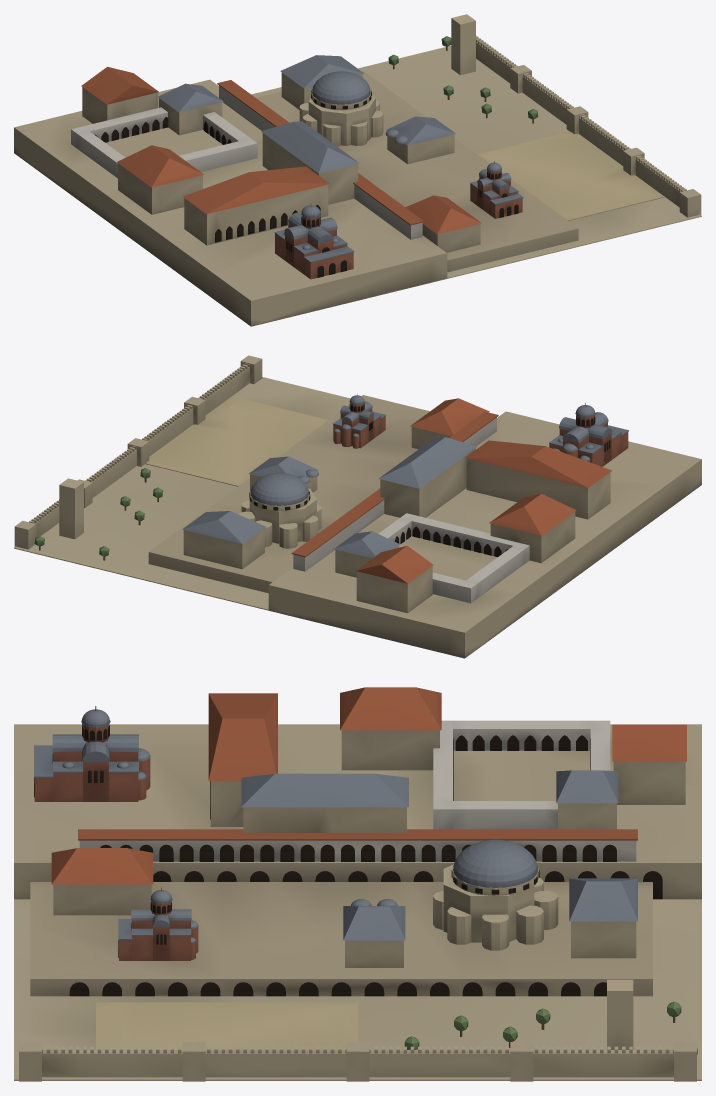
The model's file is great-palace.glb.
3 renders of one model, top to bottom at view 1: azimuth 30°, elevation 25°; view 2: azimuth 150°, elevation 25°; view 3: azimuth 270°, elevation 25°, orthographic. The views are drawn at different scales.
Visible parts, largest first — view 1: p0_terraces, p2_domes, p1_halls; view 2: p0_terraces, p2_domes, p1_halls; view 3: p0_terraces, p2_domes, p1_halls.
Boxes of the visible parts, left/top/right/bottom form: p0_terraces: left=14, top=45, right=701, bottom=326; p2_domes: left=117, top=14, right=701, bottom=279; p1_halls: left=71, top=66, right=383, bottom=245; p0_terraces: left=14, top=377, right=701, bottom=658; p2_domes: left=14, top=355, right=628, bottom=577; p1_halls: left=238, top=436, right=611, bottom=613; p0_terraces: left=14, top=724, right=701, bottom=1080; p2_domes: left=19, top=687, right=697, bottom=1081; p1_halls: left=208, top=693, right=686, bottom=950.
Bounding box in the file's own units: 220 × 37.94 × 200.
